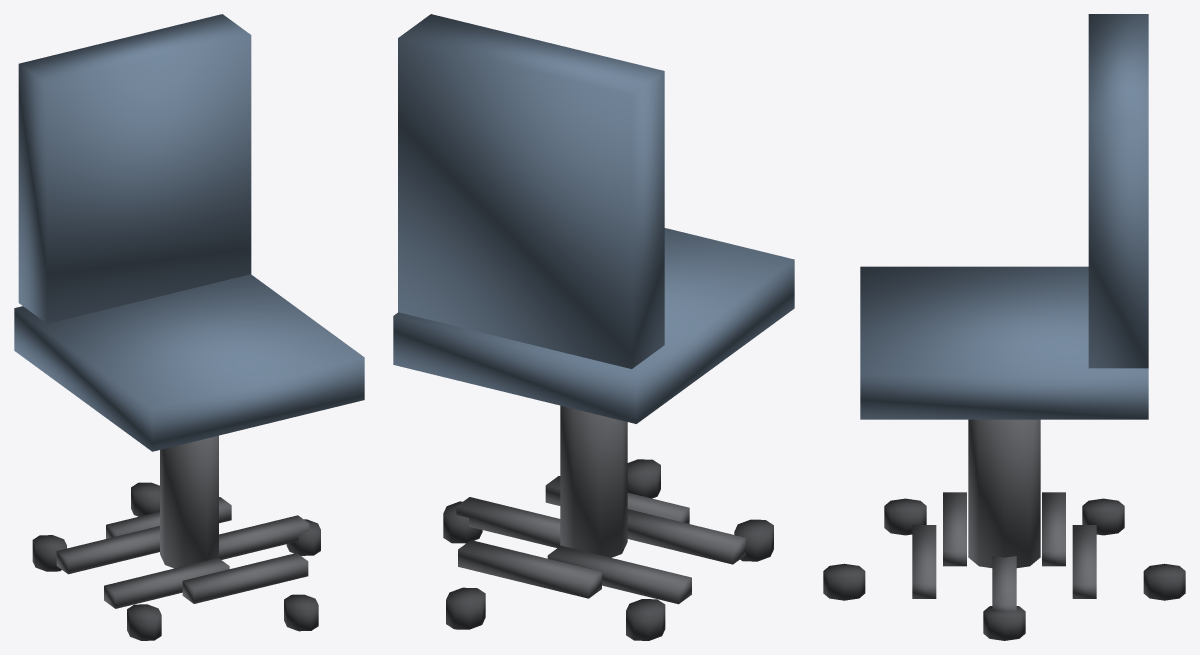
File: office_task_chair__deep.glb
3 views of the same model, side by side, from view 1: azimuth 30°, elevation 25°; view 2: azimuth 150°, elevation 25°; view 3: azimuth 270°, elevation 25° (orthographic). The views are drawn at different scales.
Parts seen in each view (by area): view 1: world; view 2: world; view 3: world.
Part boxes in pixels (bbox=[...]): world: bbox=[14, 14, 364, 640]; world: bbox=[393, 14, 794, 640]; world: bbox=[823, 14, 1185, 640].
Bounding box in the file's own units: 0.5765 × 1.14 × 0.7352.
